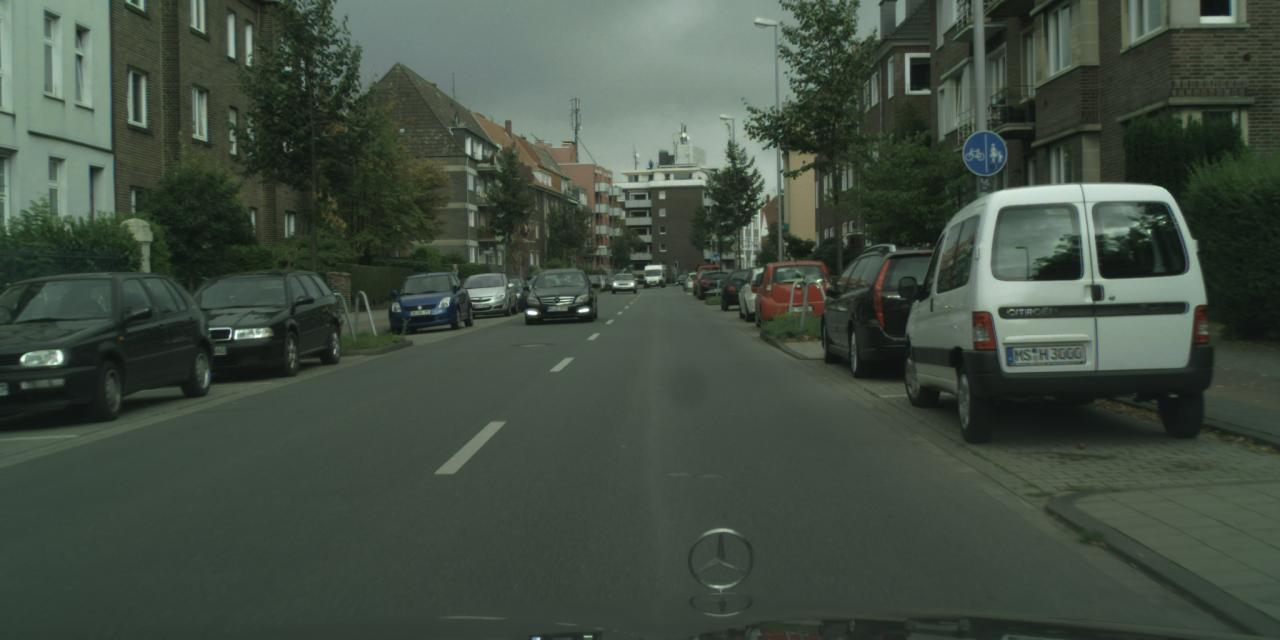ped: (448, 264, 462, 298)
